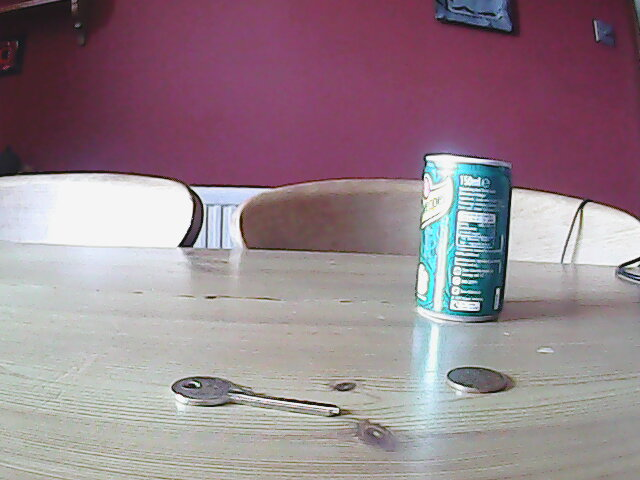Can: (413, 151, 512, 323)
Coin: (441, 363, 512, 395)
Key: (169, 375, 348, 422)
